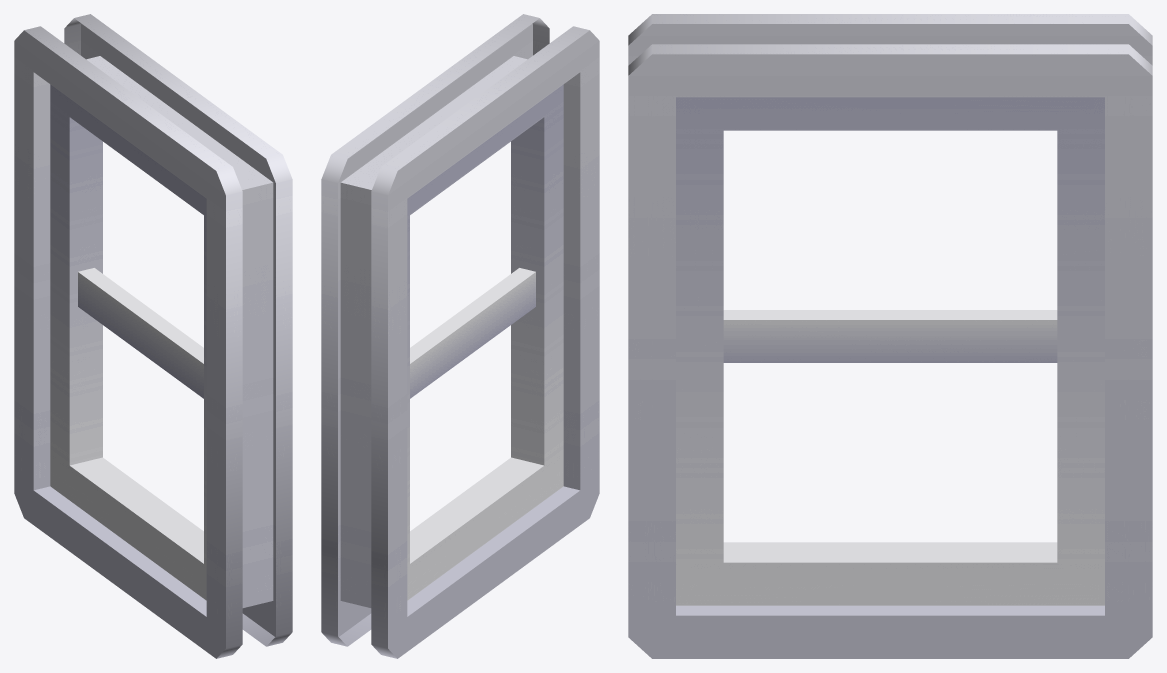
The model's file is window_03.glb.
The picture shows the model from 3 angles, left to right: view 1: azimuth 30°, elevation 25°; view 2: azimuth 150°, elevation 25°; view 3: azimuth 270°, elevation 25°; orthographic projection. The views are drawn at different scales.
Parts seen in each view (by area): view 1: wall-window-square-detailed; view 2: wall-window-square-detailed; view 3: wall-window-square-detailed.
Boxes of the visible parts, left/top/right/bottom form: wall-window-square-detailed: left=14, top=14, right=292, bottom=658; wall-window-square-detailed: left=321, top=14, right=599, bottom=658; wall-window-square-detailed: left=628, top=14, right=1152, bottom=658.
Size of the model in its own units: 0.2 by 1.4 by 1.1.
1 material, 1 textured.
